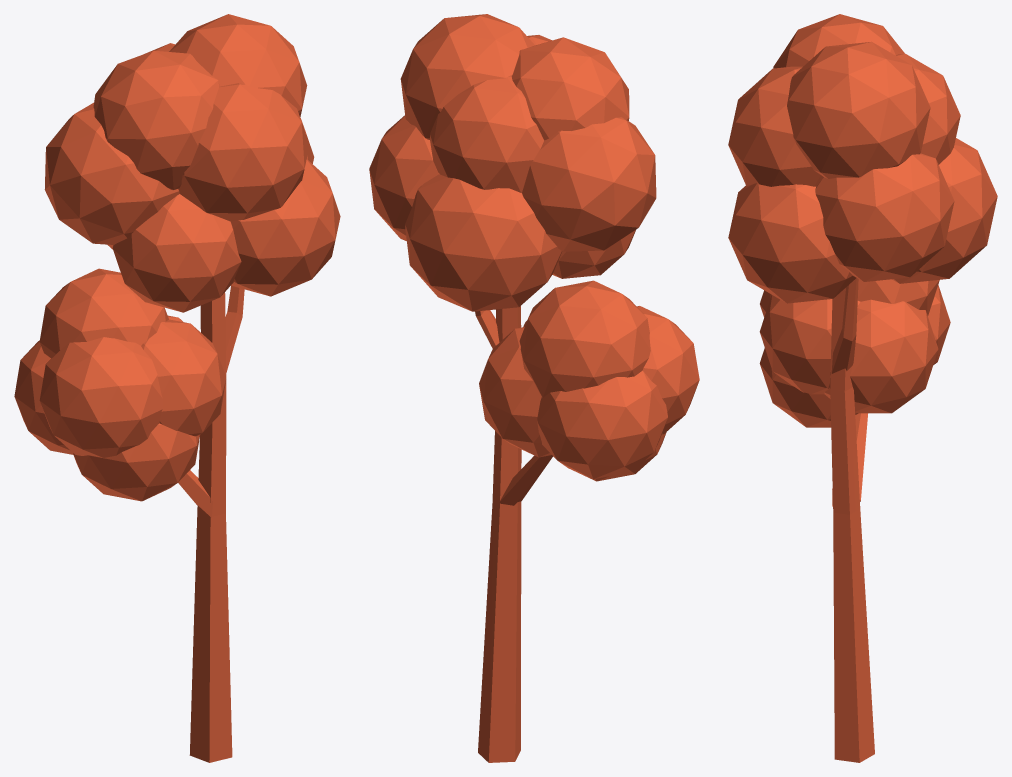
The model's file is tree_dark.fbx.
The picture shows the model from 3 angles, left to right: view 1: azimuth 30°, elevation 25°; view 2: azimuth 150°, elevation 25°; view 3: azimuth 270°, elevation 25°; orthographic projection.
Parts seen in each view (by area): view 1: tree_dark; view 2: tree_dark; view 3: tree_dark.
Part boxes in pixels (x1,y1,x2,y2): tree_dark: (14, 14, 340, 762); tree_dark: (369, 14, 699, 762); tree_dark: (728, 14, 997, 762).
Size of the model in its own units: 4.54 by 11.27 by 3.84.
